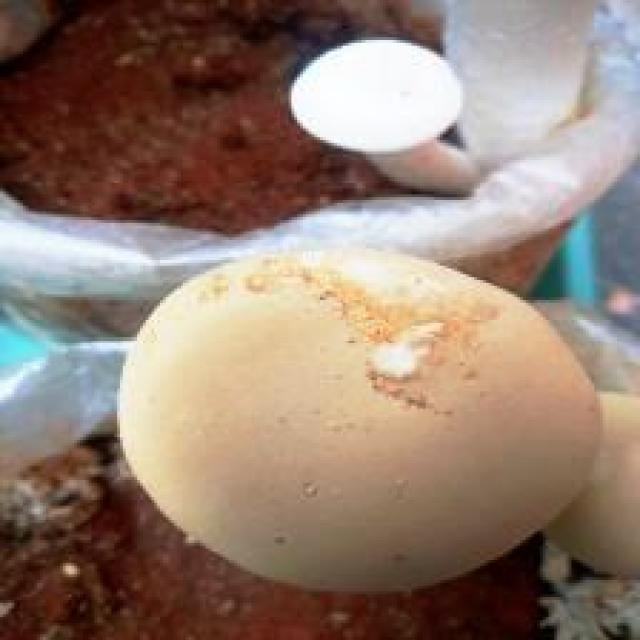death-cap: (111, 240, 603, 594)
